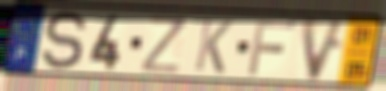4: (86, 13, 123, 72)
F: (246, 18, 299, 77)
K: (192, 17, 236, 76)
S: (40, 9, 90, 72)
V: (300, 16, 350, 83)
Z: (139, 14, 189, 76)
